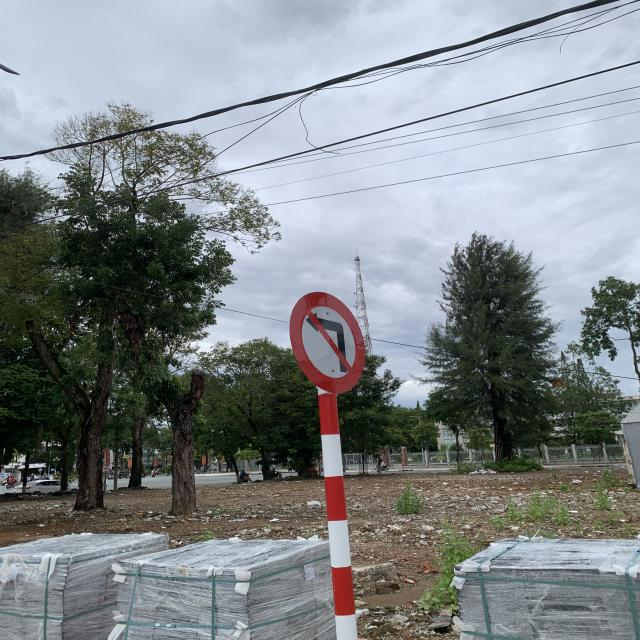Cam_Re_Trai: (290, 291, 366, 393)
